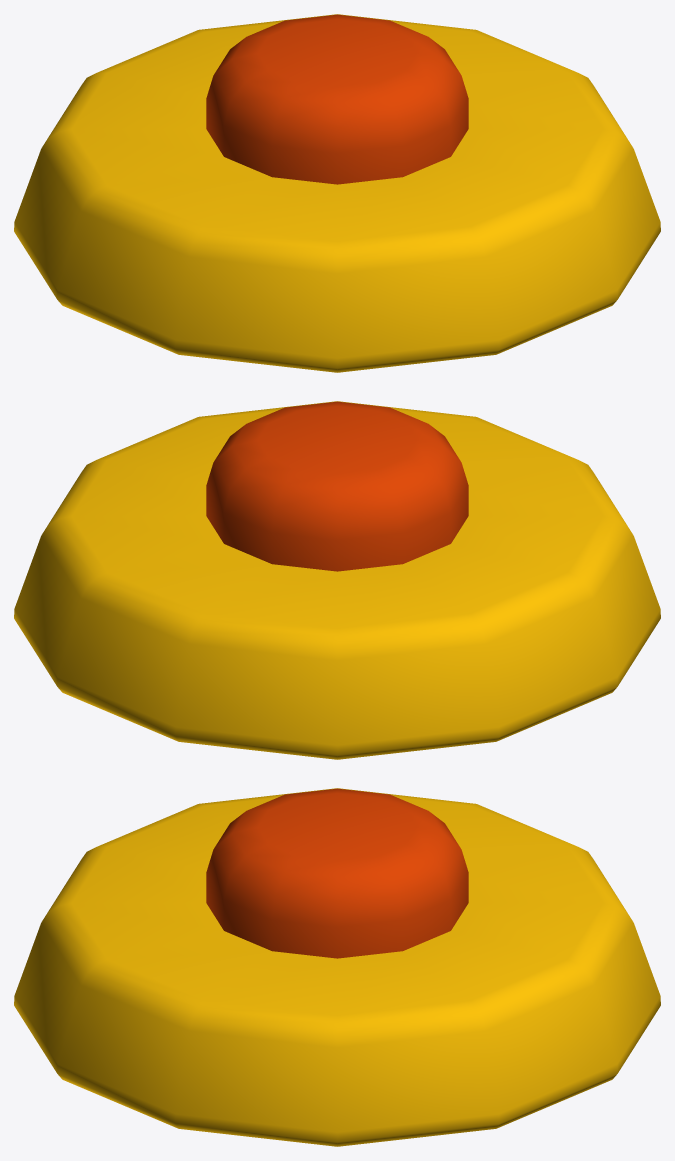
The model's file is Button_1.fbx.
The picture shows the model from 3 angles, top to bottom: view 1: azimuth 30°, elevation 25°; view 2: azimuth 150°, elevation 25°; view 3: azimuth 270°, elevation 25°; orthographic projection.
Parts seen in each view (by area): view 1: Button_1; view 2: Button_1; view 3: Button_1.
Boxes of the visible parts, <box> form: Button_1: <box>14,14,660,372</box>; Button_1: <box>14,401,660,759</box>; Button_1: <box>14,788,660,1146</box>.
Size of the model in its own units: 0.1793 by 0.0575 by 0.1793.
